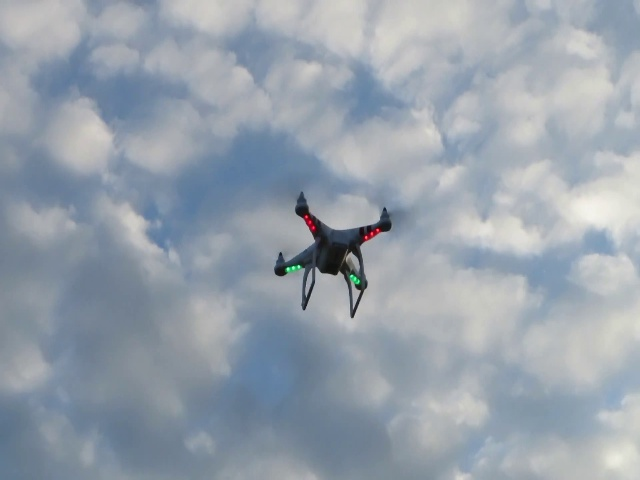drone: (260, 175, 413, 322)
